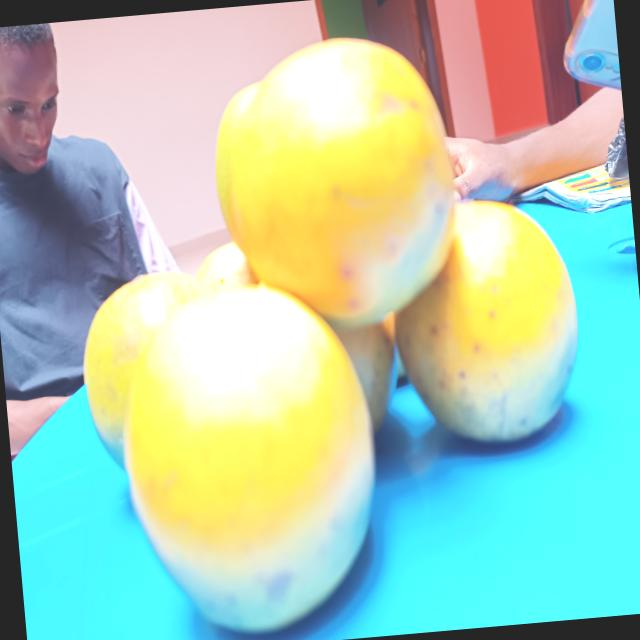Ripe orange: (110, 282, 394, 636), (211, 22, 464, 332), (391, 186, 588, 446), (61, 264, 250, 466)
